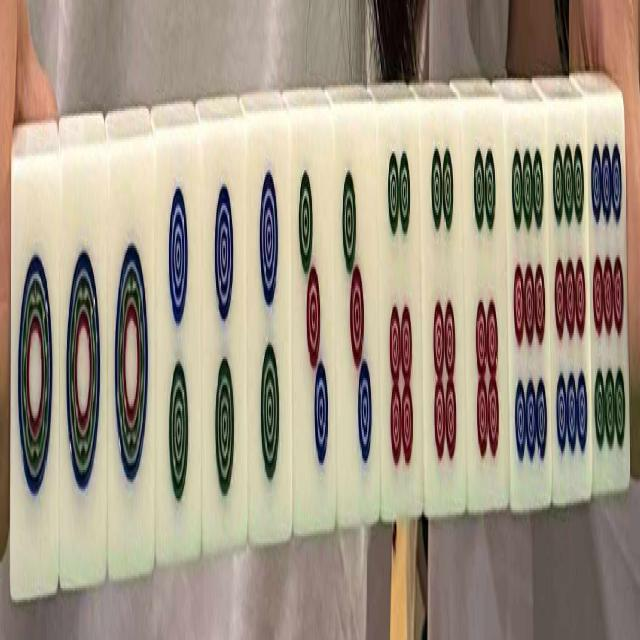1D: (62, 171, 105, 561), (109, 162, 152, 546), (14, 179, 56, 571)
2D: (158, 159, 198, 539), (206, 152, 244, 522), (253, 144, 288, 520)
3D: (337, 142, 375, 510), (293, 142, 331, 498)
6D: (467, 124, 506, 496), (381, 118, 418, 484), (424, 126, 459, 473)
9D: (510, 128, 548, 489), (549, 132, 589, 468), (590, 136, 626, 460)
